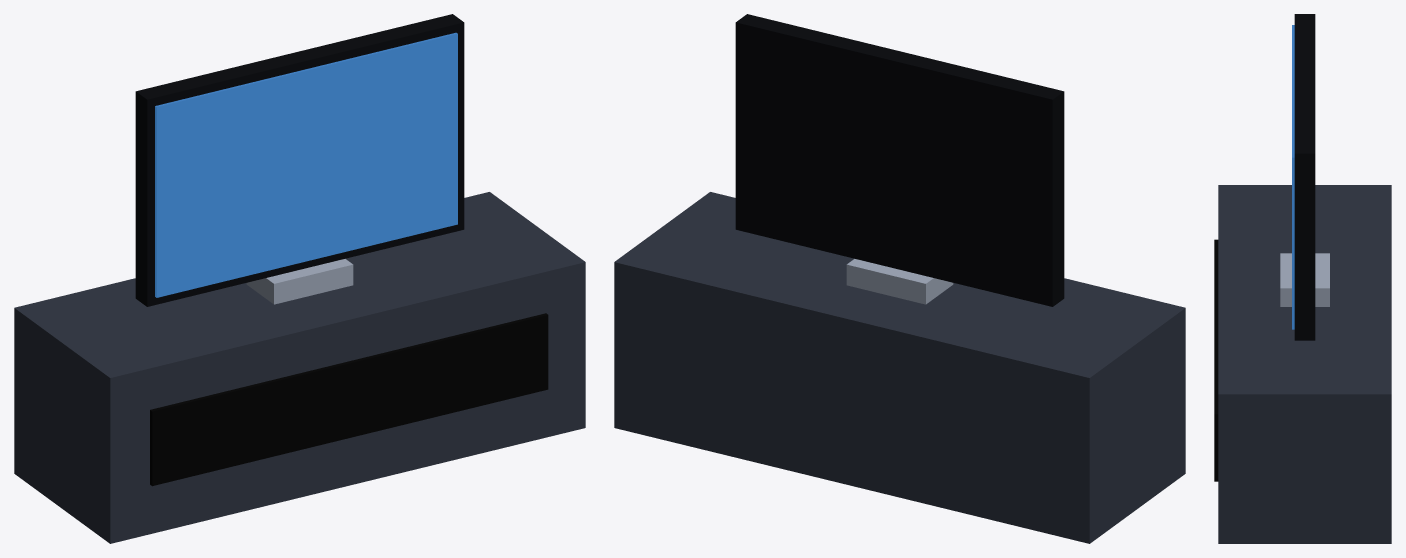
File: tv_cool_1.glb
3 renders of one model, left to right at view 1: azimuth 30°, elevation 25°; view 2: azimuth 150°, elevation 25°; view 3: azimuth 270°, elevation 25°, orthographic. The views are drawn at different scales.
Size of the model in its own units: 1.2 by 0.95 by 0.43.
